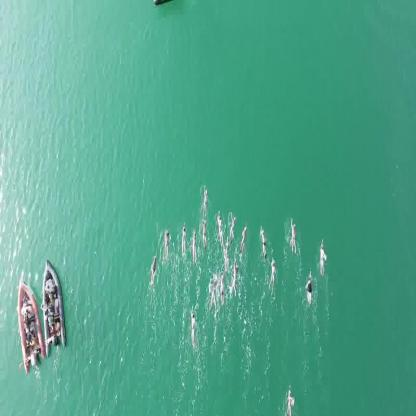Boat: (40, 260, 66, 350), (16, 280, 41, 370)
